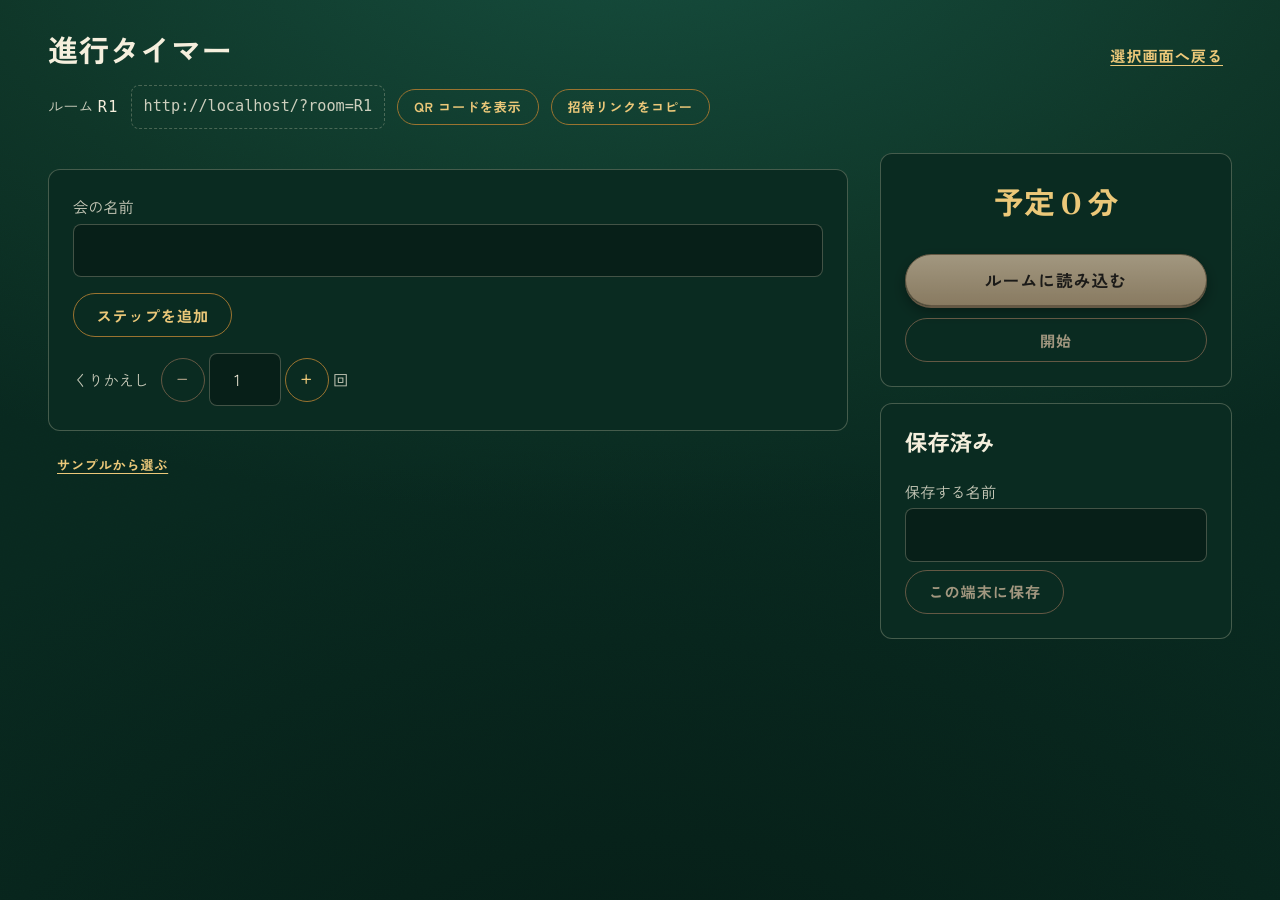
組む画面 › Given サンプルを読んだ / When くりかえしを 6 にする / Then 合計が「1 回あたり 2 分 × 6 回 ＝ 全部で 12 分」になる
The image size is (1280, 900).
Click the button "サンプルから選ぶ" at x=113, y=465, box [48,447,177,483]
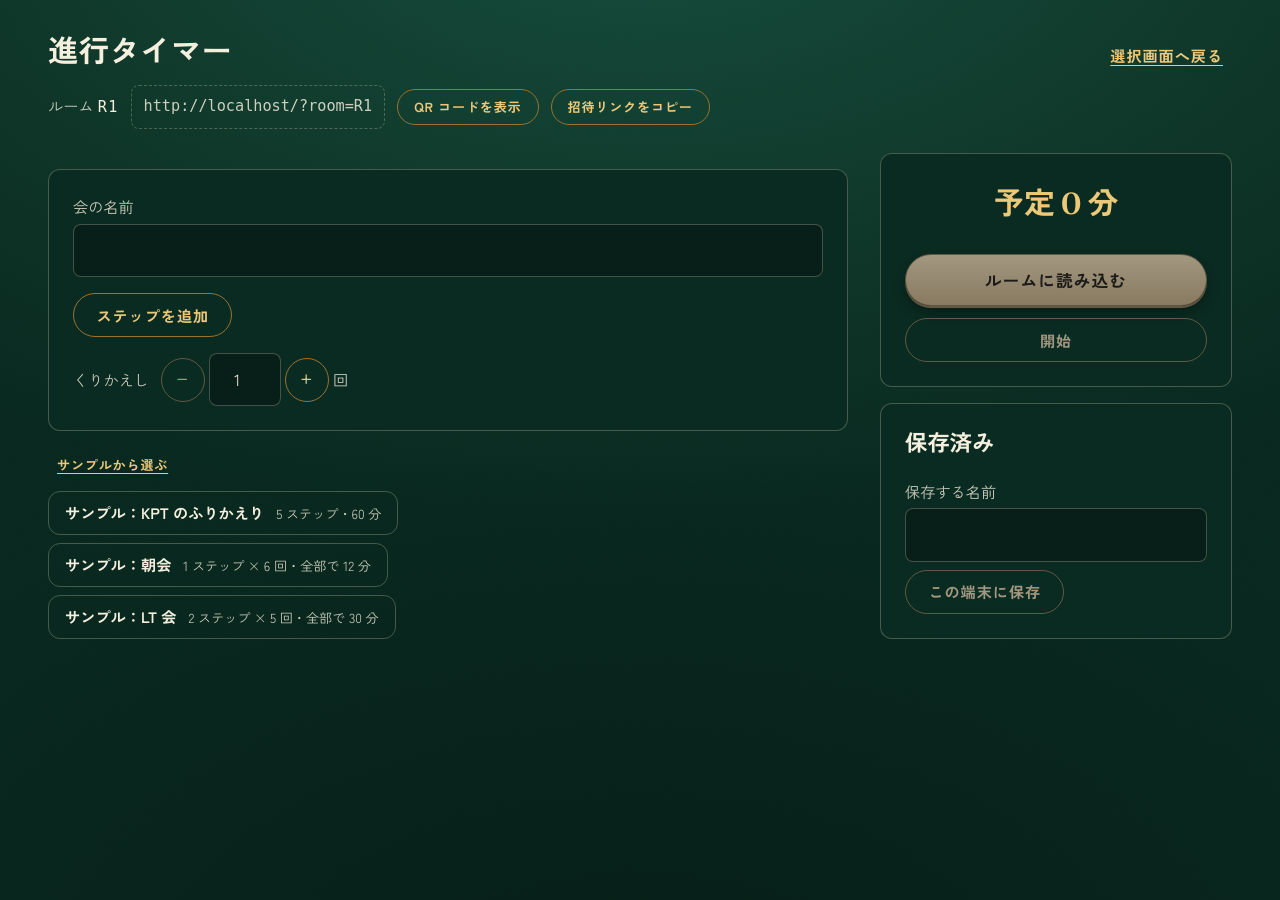
Click the button "サンプル：朝会 1 ステップ × 6 回・全部で 12 分" at x=218, y=565, box [48,543,388,587]
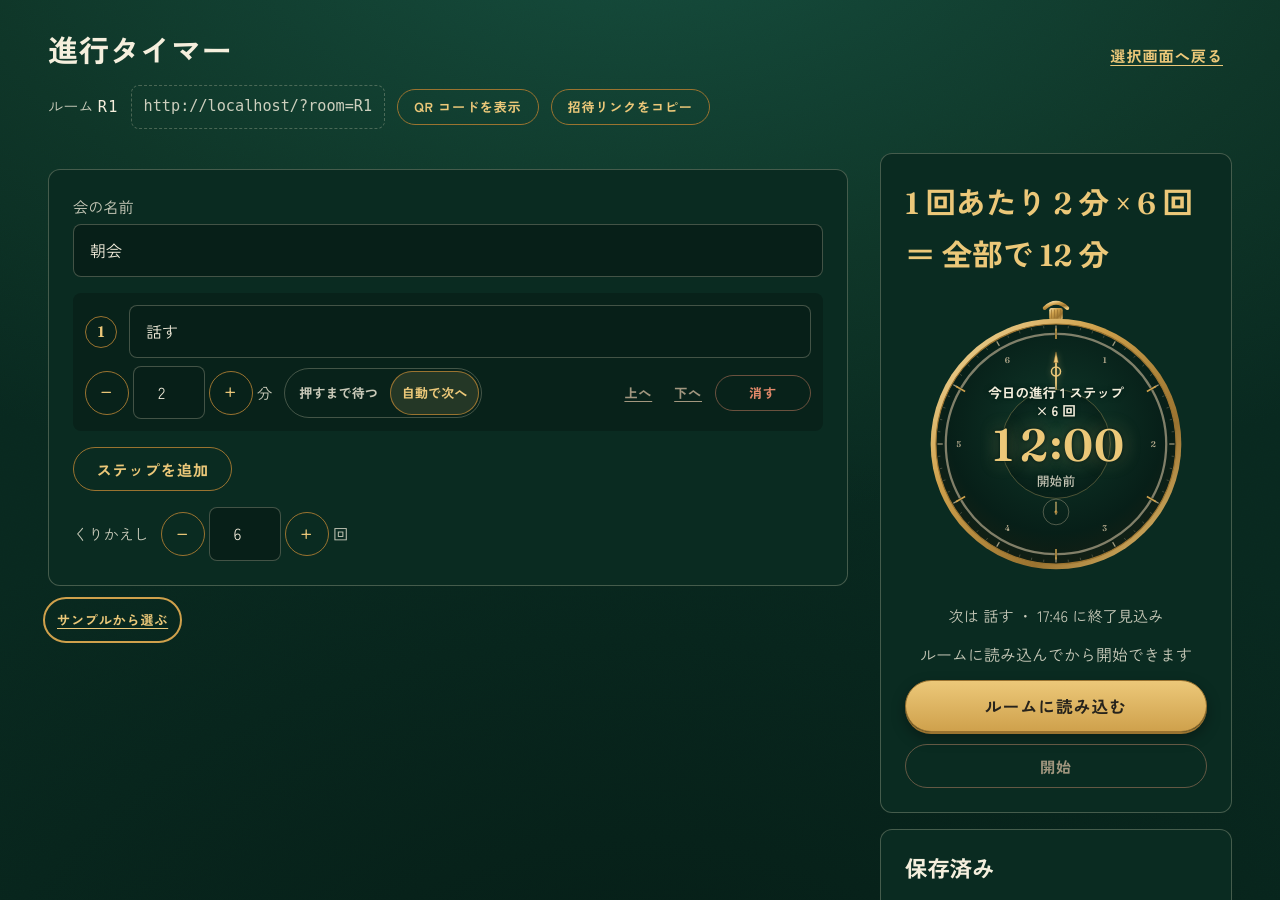
Replace the text in the number field labelled "くりかえし" with "3" at x=245, y=534, box [209,507,281,561]
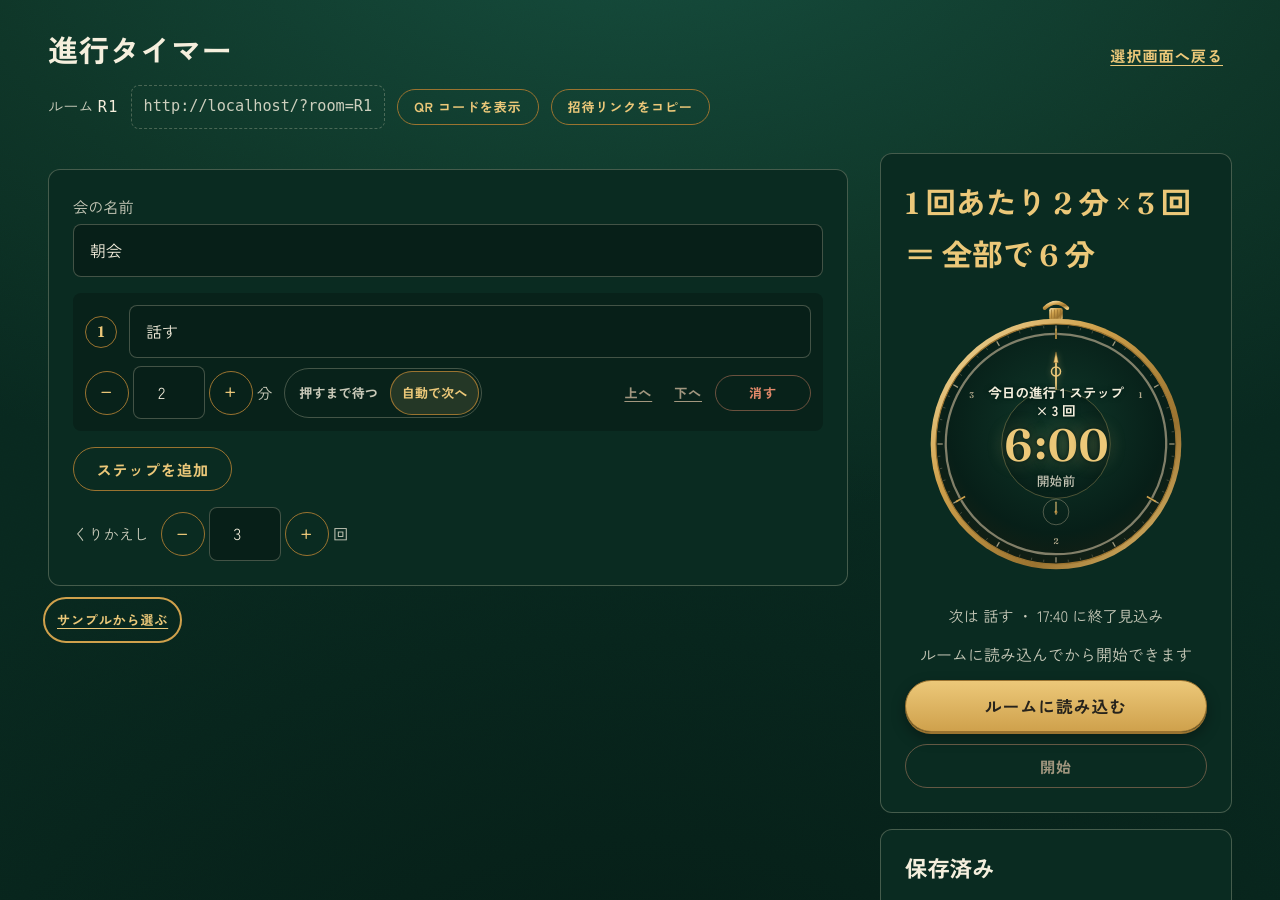
Replace the text in the number field labelled "くりかえし" with "6" at x=245, y=534, box [209,507,281,561]
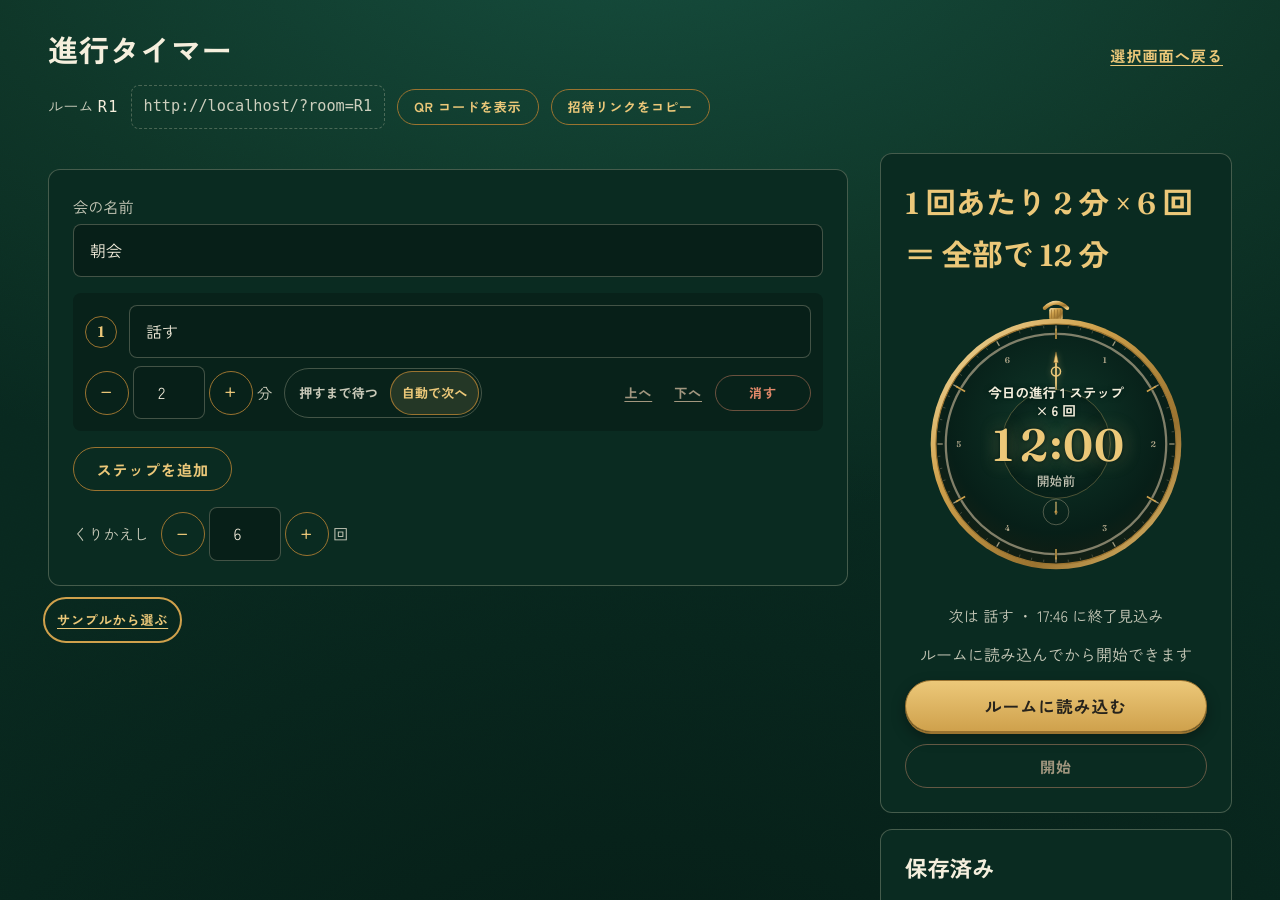
Now the element with class "builder-total" reads "1 回あたり 2 分 × 6 回 ＝ 全部で 12 分", box [905,178,1207,281]
